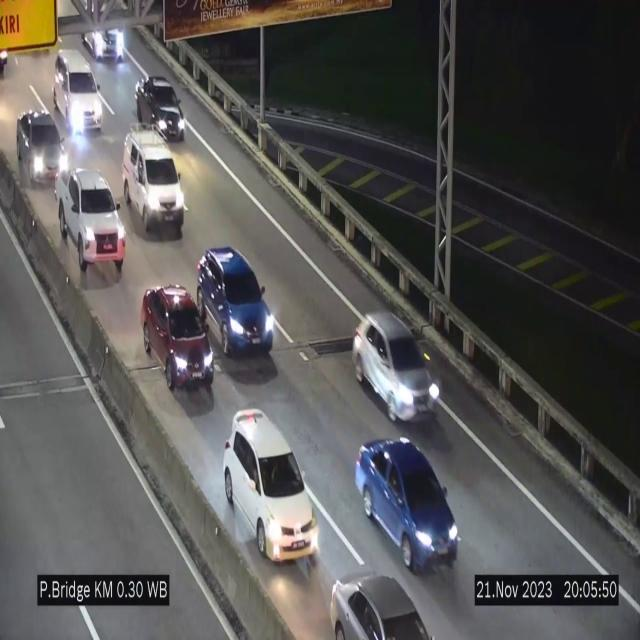Car: (223, 412, 319, 562), (355, 437, 458, 571), (353, 313, 441, 421), (325, 563, 436, 640), (197, 246, 275, 354), (142, 284, 214, 400), (59, 170, 128, 272), (124, 130, 184, 237), (54, 44, 112, 140), (76, 0, 136, 60), (18, 114, 60, 191), (137, 75, 185, 141)
